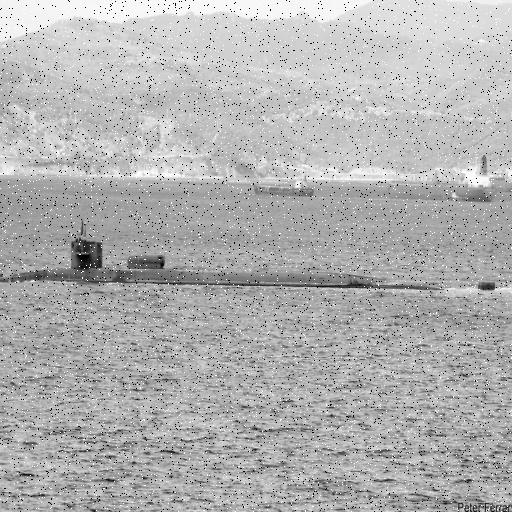submarine: (1, 218, 495, 290)
